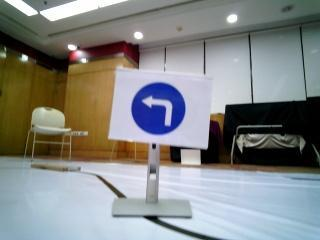left: (120, 71, 204, 144)
